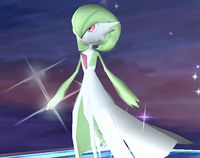gardevoir: (44, 5, 194, 158)
